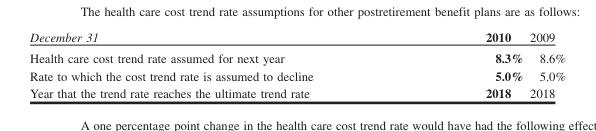table: (29, 28, 564, 100)
table column: (29, 28, 398, 100), (398, 28, 525, 100), (525, 28, 564, 100)
table column header: (29, 28, 564, 46)
table row: (29, 46, 564, 66), (29, 28, 564, 46), (29, 66, 564, 84), (29, 84, 564, 100)
